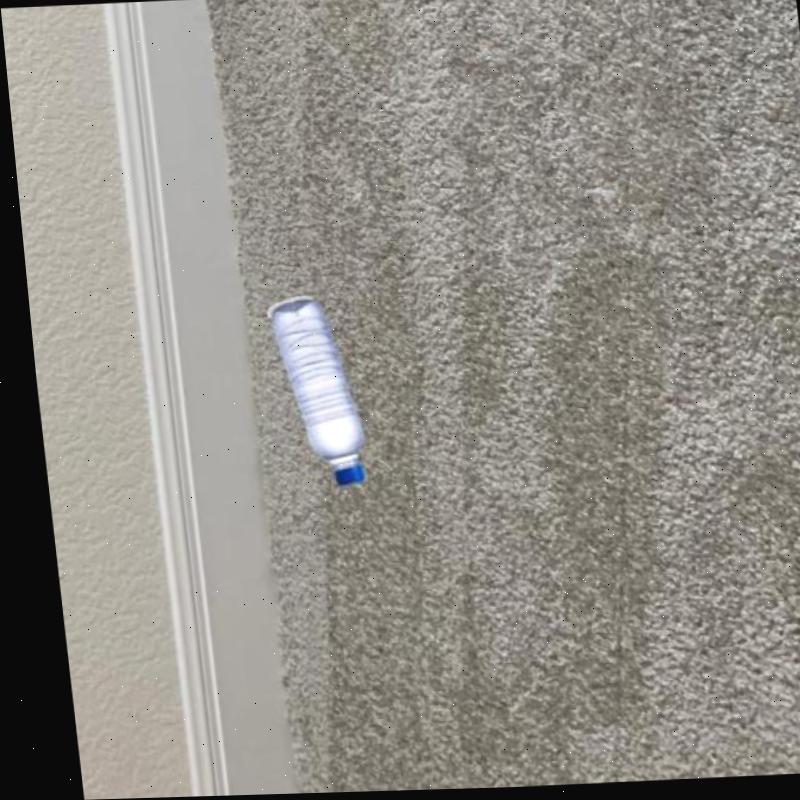botella: (251, 291, 370, 490)
